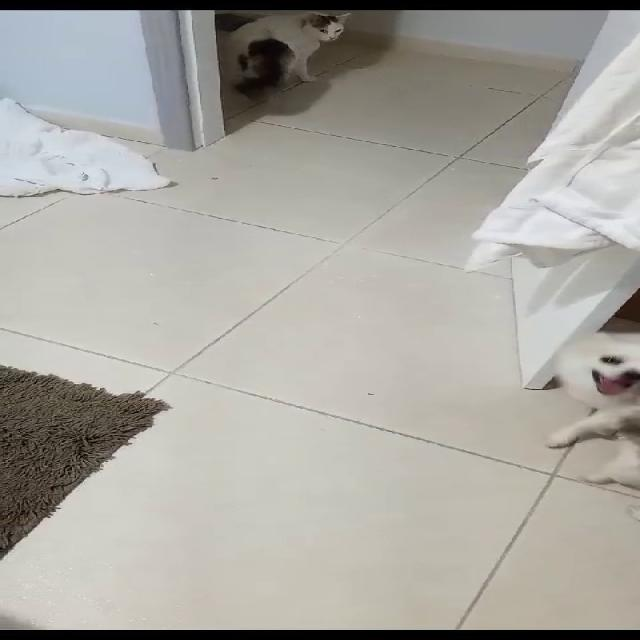Simba: (223, 7, 361, 114)
Theo: (561, 327, 639, 503)
